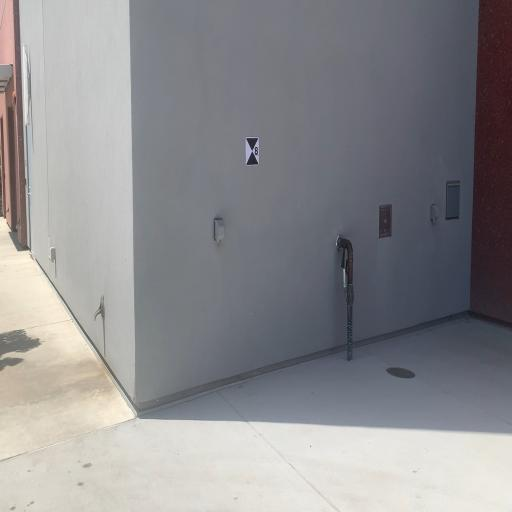target8: (246, 135, 260, 166)
